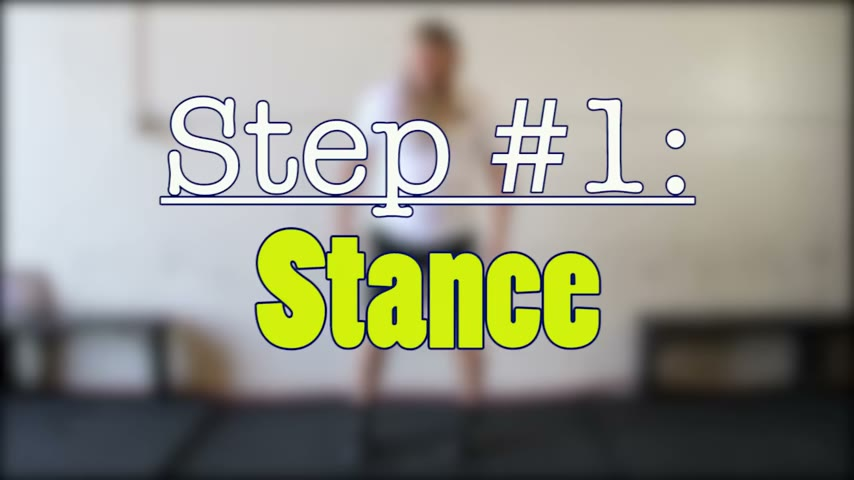barbell_plate_side: (545, 240, 605, 358), (252, 230, 309, 351)
